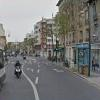Motorcycle: (11, 57, 25, 86)
